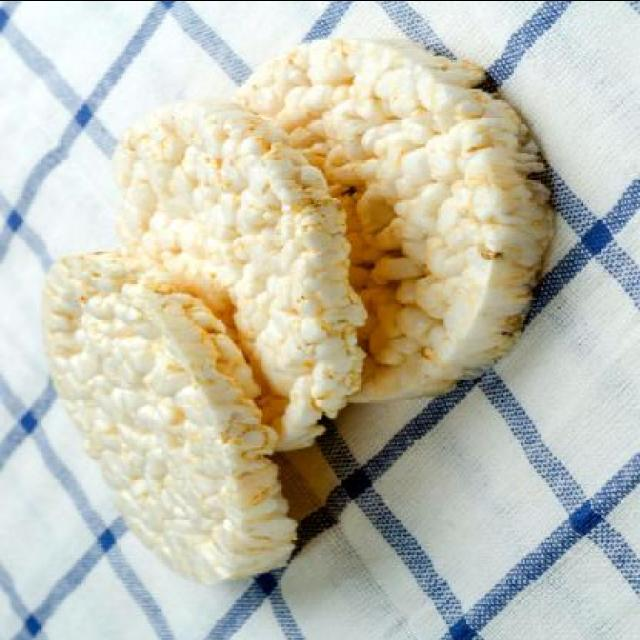Gallette di riso packaged: (231, 23, 549, 406), (41, 247, 294, 582), (114, 97, 351, 451)
